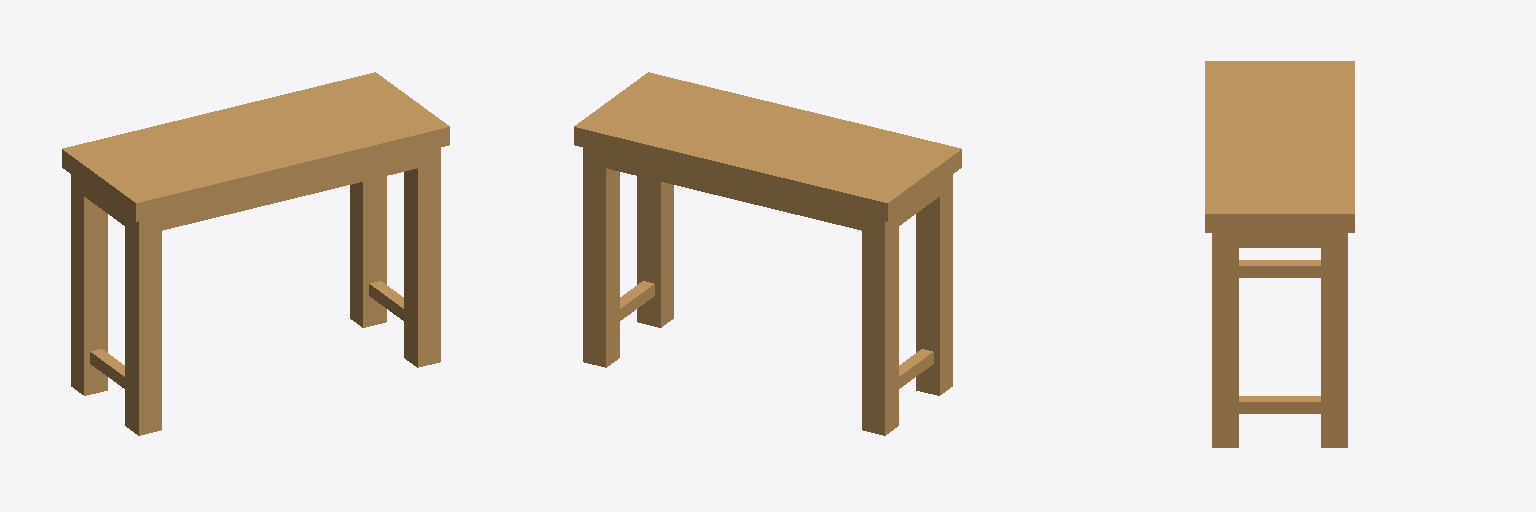
The model's file is sideTable.obj.
The picture shows the model from 3 angles: view 1: azimuth 30°, elevation 25°; view 2: azimuth 150°, elevation 25°; view 3: azimuth 270°, elevation 25°; orthographic projection.
Parts seen in each view (by area): view 1: sideTable; view 2: sideTable; view 3: sideTable.
Part boxes in pixels (bbox=[...]): sideTable: bbox=[62, 72, 449, 435]; sideTable: bbox=[574, 72, 961, 435]; sideTable: bbox=[1205, 61, 1354, 447].
Bounding box in the file's own units: 5.34 × 3.84 × 2.2.